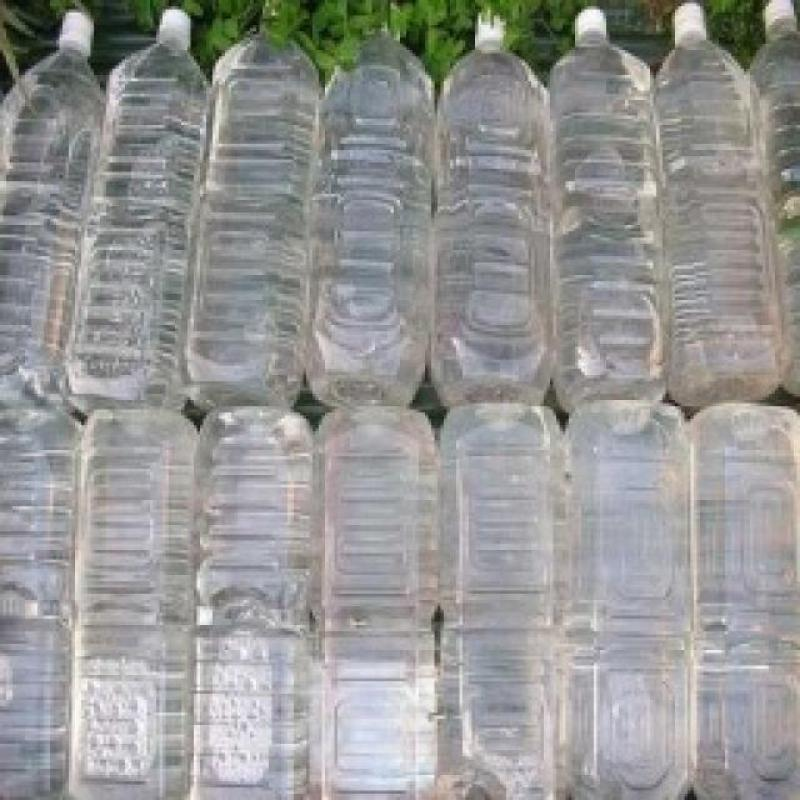botella: (74, 1, 211, 420), (548, 400, 690, 800), (656, 1, 794, 411), (430, 1, 560, 414), (192, 1, 320, 414), (434, 406, 568, 800), (190, 402, 322, 800), (546, 6, 676, 410), (310, 406, 440, 800), (675, 394, 800, 800), (73, 409, 202, 800), (311, 8, 433, 414), (0, 6, 110, 416), (0, 406, 78, 800), (737, 0, 800, 397)
